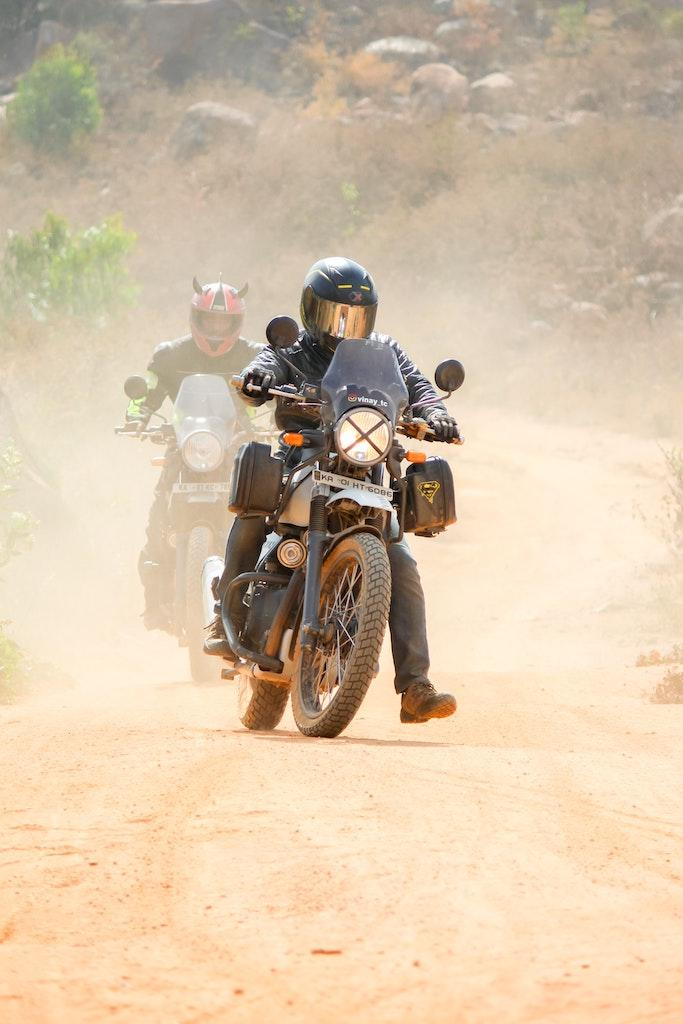helmet: (299, 255, 379, 364), (189, 270, 250, 361)
